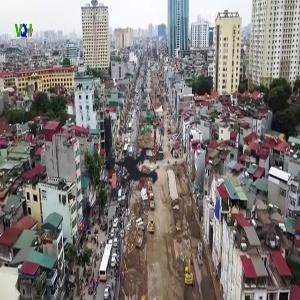drone: (55, 85, 214, 244)
